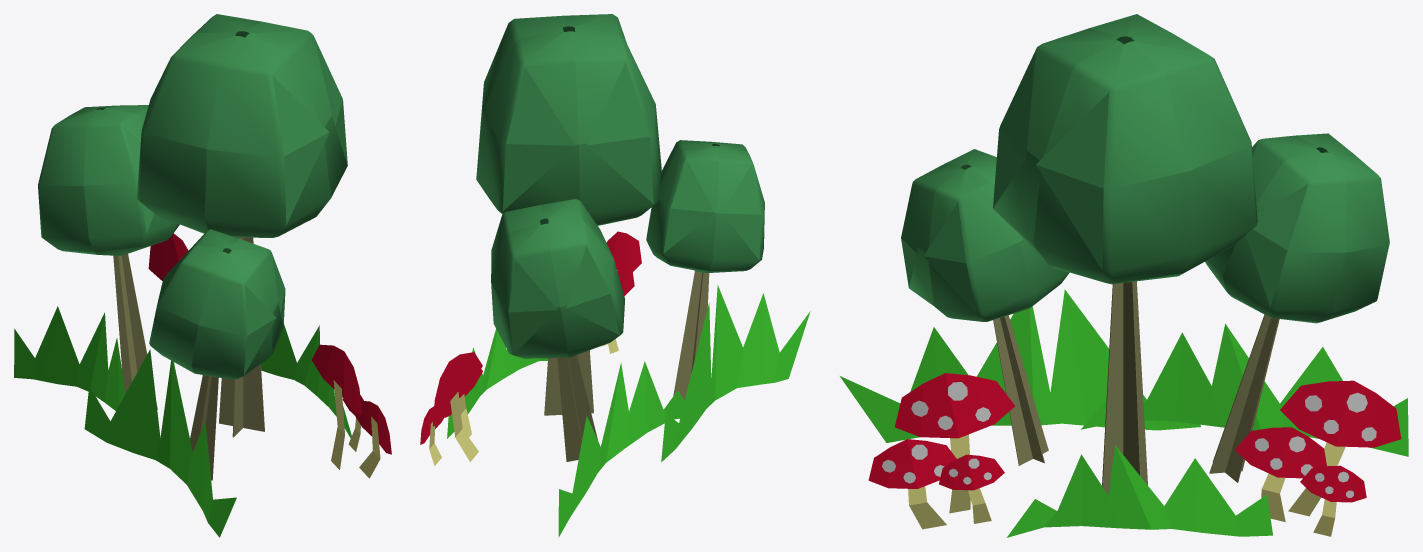
The model's file is Level_1_Forest.fbx.
3 views of the same model, side by side, from view 1: azimuth 30°, elevation 25°; view 2: azimuth 150°, elevation 25°; view 3: azimuth 270°, elevation 25° (orthographic). The views are drawn at different scales.
Parts seen in each view (by area): view 1: FOREST; view 2: FOREST; view 3: FOREST.
Boxes of the visible parts, <box> form: FOREST: <box>14,14,391,537</box>; FOREST: <box>420,14,810,537</box>; FOREST: <box>840,14,1408,537</box>.
Size of the model in its own units: 34.71 by 55.78 by 59.91.
